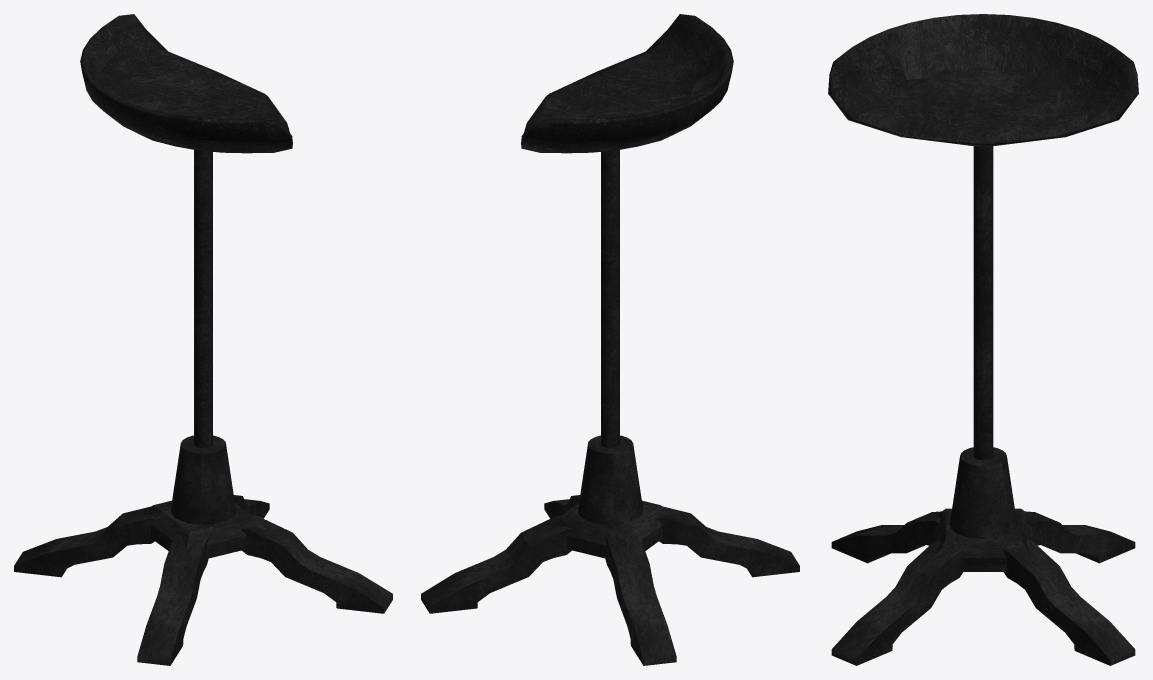
File: Stool.obj
3 views of the same model, side by side, from view 1: azimuth 30°, elevation 25°; view 2: azimuth 150°, elevation 25°; view 3: azimuth 270°, elevation 25° (orthographic). The views are drawn at different scales.
Bounding box in the file's own units: 1.25 × 2.44 × 1.28.
1 material, 1 textured.
